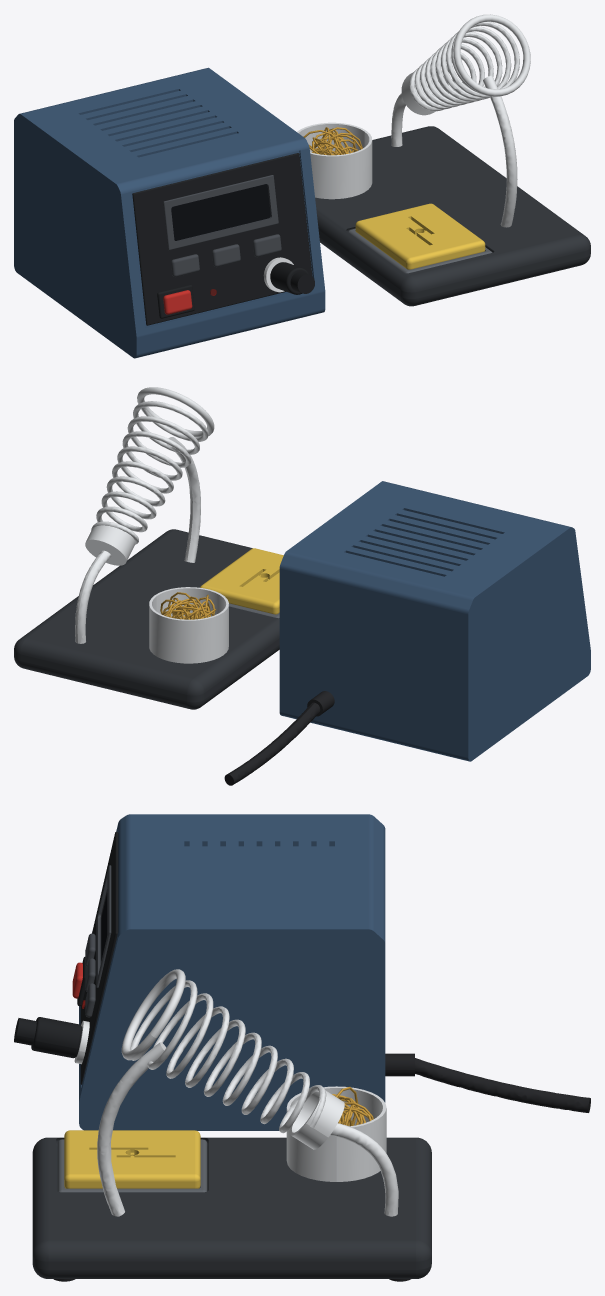
The model's file is soldering-station.glb.
The picture shows the model from 3 angles, top to bottom: view 1: azimuth 30°, elevation 25°; view 2: azimuth 150°, elevation 25°; view 3: azimuth 270°, elevation 25°; orthographic projection. The views are drawn at different scales.
Parts seen in each view (by area): view 1: station_body, holder_base, front_panel, sponge, coil, brass_cup, display_window, display_bezel, coil_arm, coil_mouth, plug_iron, brass_wool (+7 smaller); view 2: station_body, holder_base, coil, brass_cup, sponge, coil_arm, power_cord, coil_cup, brass_wool, coil_mouth; view 3: station_body, holder_base, coil, sponge, brass_cup, coil_arm, power_cord, front_panel, plug_iron, coil_mouth, coil_cup, sponge_tray (+2 smaller).
Part boxes in pixels (x1,y1,x2,y2): station_body: (14,67,325,358); holder_base: (315,126,590,306); front_panel: (132,153,312,325); sponge: (355,203,485,269); coil: (409,21,523,111); brass_cup: (297,122,372,199); display_window: (171,184,270,240); display_bezel: (163,175,278,250); coil_arm: (391,76,517,227); coil_mouth: (453,14,530,96); plug_iron: (270,262,314,294); brass_wool: (303,127,362,155); station_body: (279,481,590,761); holder_base: (14,529,279,709); coil: (91,401,208,544); brass_cup: (149,587,228,663); sponge: (200,548,283,614); coil_arm: (75,437,200,643); power_cord: (224,691,334,785); coil_cup: (85,522,135,565); brass_wool: (160,592,215,619); coil_mouth: (137,387,214,436); station_body: (79,814,385,1130); holder_base: (32,1137,431,1278); coil: (130,980,326,1133); sponge: (64,1130,200,1188); brass_cup: (286,1086,386,1181); coil_arm: (97,1042,398,1216); power_cord: (385,1053,590,1112); front_panel: (80,831,118,1084); plug_iron: (14,1017,81,1058); coil_mouth: (121,969,185,1060); coil_cup: (290,1090,344,1149); sponge_tray: (57,1139,207,1192).
Size of the model in its own units: 0.28 by 0.1365 by 0.2543.
